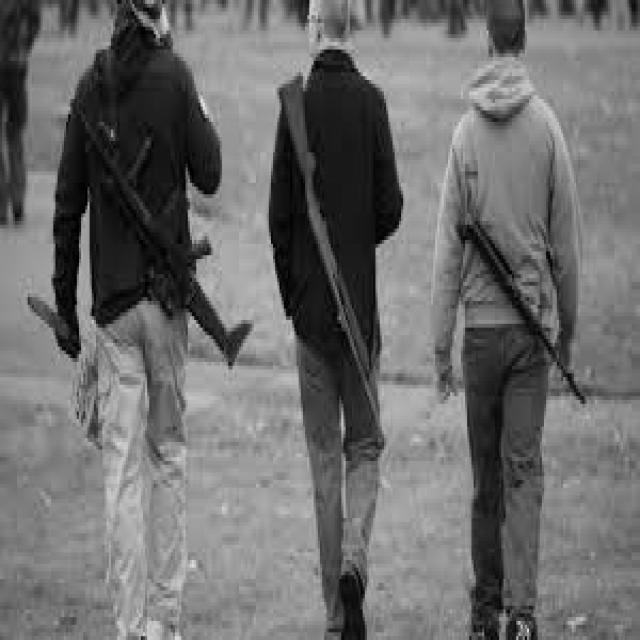rifle: (73, 98, 252, 372), (278, 67, 385, 439), (458, 212, 586, 410)
